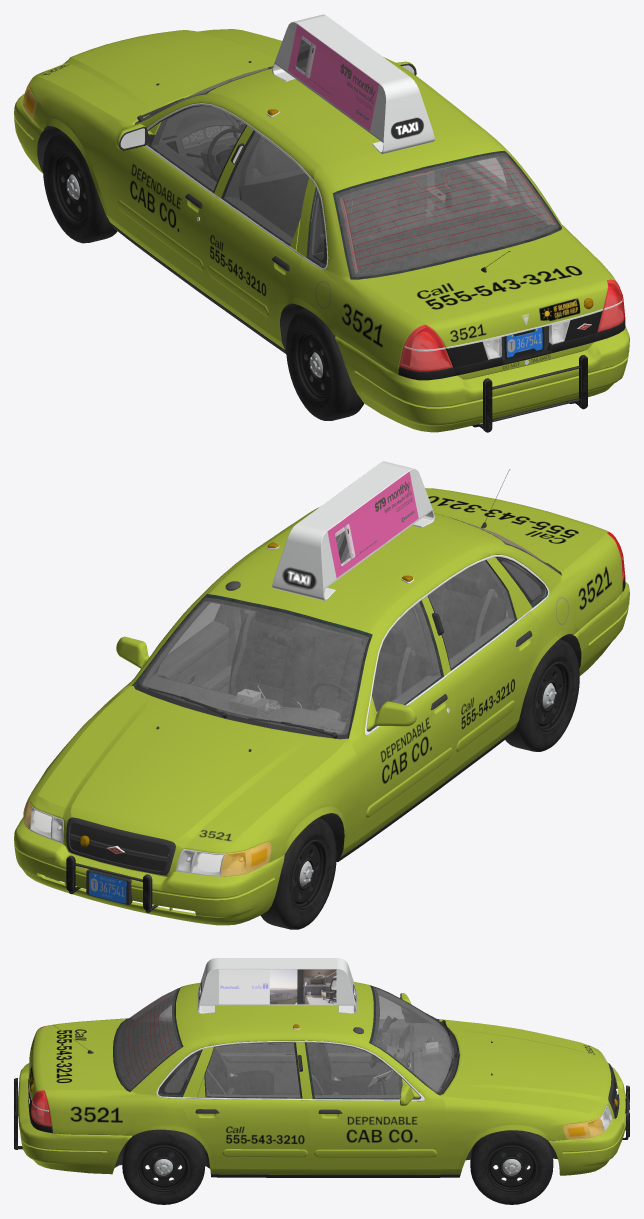
The picture shows the model from 3 angles, top to bottom: view 1: azimuth 30°, elevation 25°; view 2: azimuth 150°, elevation 25°; view 3: azimuth 270°, elevation 25°; orthographic projection. The views are drawn at different scales.
Parts seen in each view (by area): view 1: SilverCoronet (×15), Taxi (×3), Steeringwheel; view 2: SilverCoronet (×14), Taxi (×3), Taxigearclassic, Steeringwheel; view 3: SilverCoronet (×17), Taxi, Taxigearclassic.
Part boxes in pixels (x1,y1,x2,y2): SilverCoronet (×15): (14,29,629,432); Taxi (×3): (240,14,587,432); Steeringwheel: (207,128,255,179); SilverCoronet (×14): (14,488,629,929); Taxi (×3): (66,461,434,912); Taxigearclassic: (229,689,284,716); Steeringwheel: (310,682,352,718); SilverCoronet (×17): (18,982,629,1204); Taxi: (197,958,356,1013); Taxigearclassic: (401,1037,450,1062).
Size of the model in its own units: 432 by 389 by 1079.
Materials: 6 (6 with a texture image).
